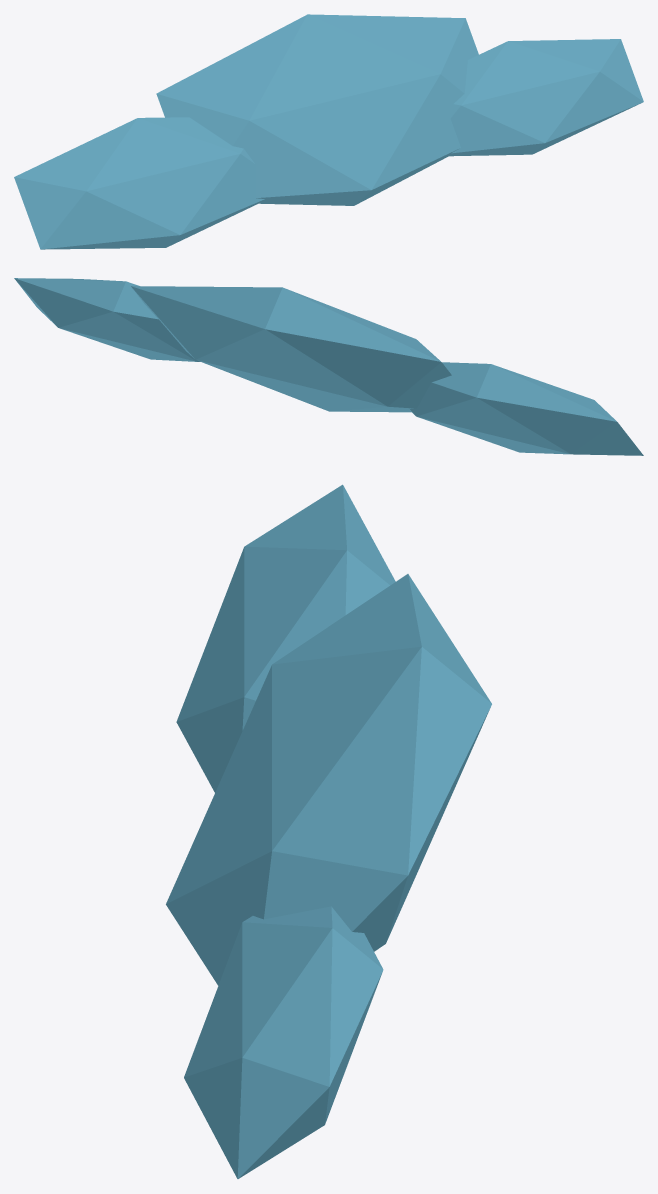
File: cloud.glb
3 views of the same model, one above another, from view 1: azimuth 30°, elevation 25°; view 2: azimuth 150°, elevation 25°; view 3: azimuth 270°, elevation 25° (orthographic). The views are drawn at different scales.
Parts seen in each view (by area): view 1: Cloud; view 2: Cloud; view 3: Cloud.
Boxes of the visible parts, x1,y1,x2,y2 form: Cloud: [14, 14, 643, 249]; Cloud: [14, 278, 643, 455]; Cloud: [166, 484, 491, 1178].
Size of the model in its own units: 2.88 by 0.7188 by 0.6747.
